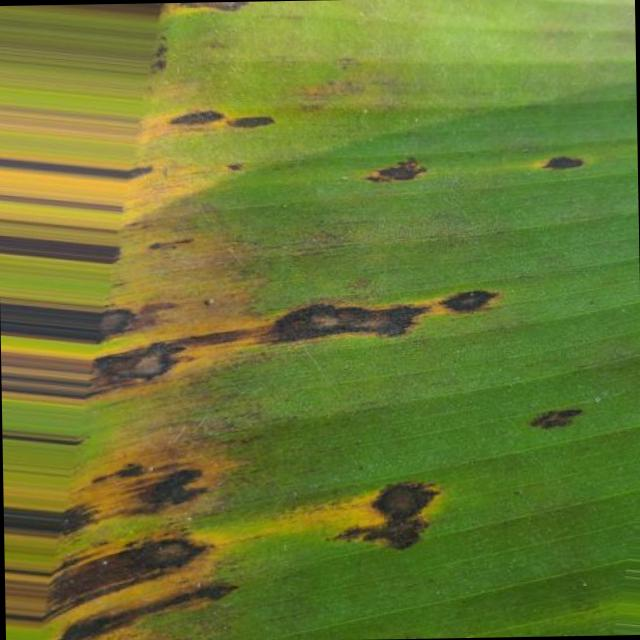Banana_Black_Sigatoka: (75, 136, 509, 640)
